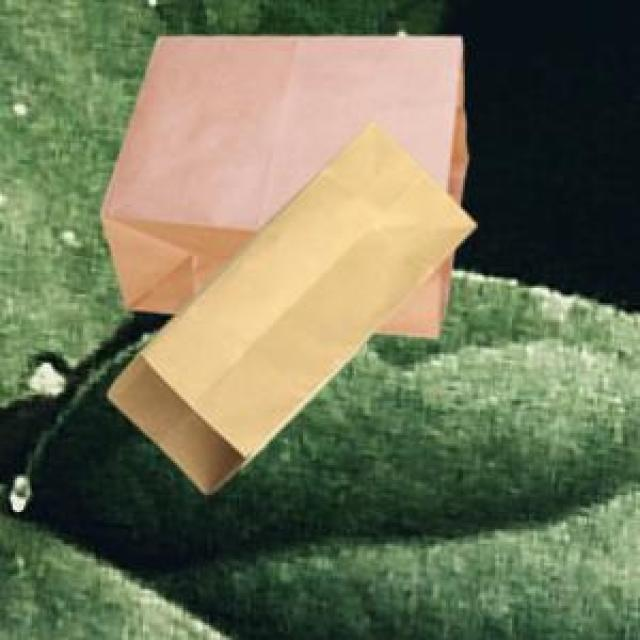paper: (105, 117, 472, 489), (96, 32, 463, 333)
